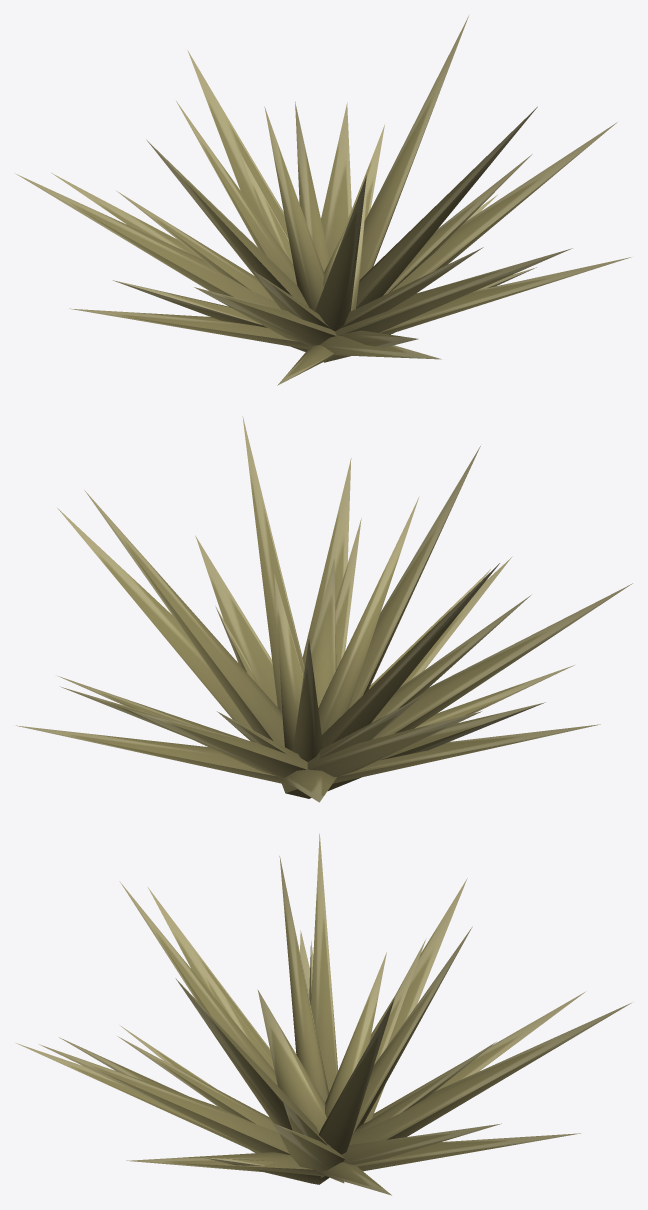
The model's file is DE_Cactus_40.fbx.
3 renders of one model, top to bottom at view 1: azimuth 30°, elevation 25°; view 2: azimuth 150°, elevation 25°; view 3: azimuth 270°, elevation 25°, orthographic. The views are drawn at different scales.
Parts seen in each view (by area): view 1: DE_Cactus_40; view 2: DE_Cactus_40; view 3: DE_Cactus_40.
Boxes of the visible parts, x1=… form: DE_Cactus_40: x1=15, y1=16, x2=631, y2=385; DE_Cactus_40: x1=14, y1=416, x2=632, y2=802; DE_Cactus_40: x1=16, y1=833, x2=631, y2=1195.
Size of the model in its own units: 3.38 by 1.74 by 3.41.
